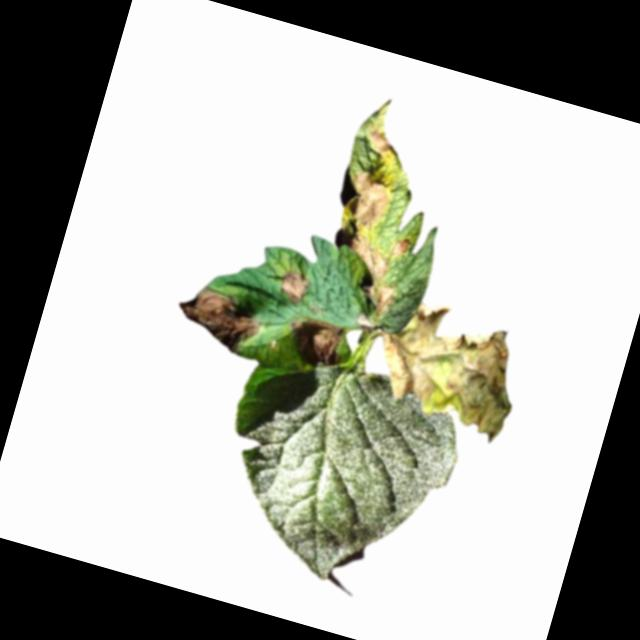Late_blight: (362, 284, 537, 446), (168, 279, 270, 360), (280, 312, 351, 376), (339, 167, 397, 231), (343, 233, 395, 281), (354, 274, 398, 323), (275, 266, 313, 309), (363, 128, 400, 161), (390, 234, 415, 260)
healthy: (195, 335, 476, 610)
